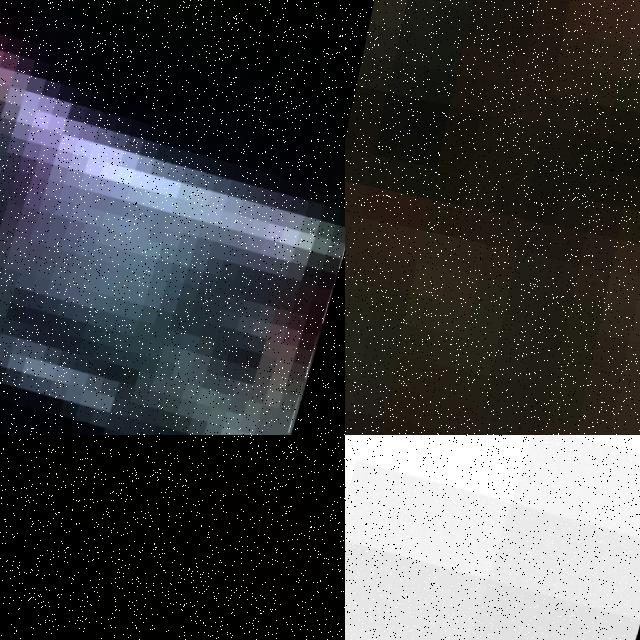0: (0, 0, 345, 435)
drone: (345, 435, 640, 640)
